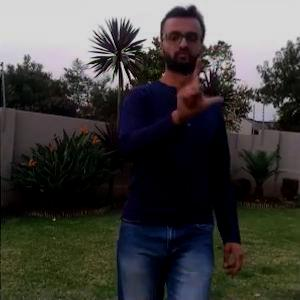land_hand: (172, 50, 227, 118)
